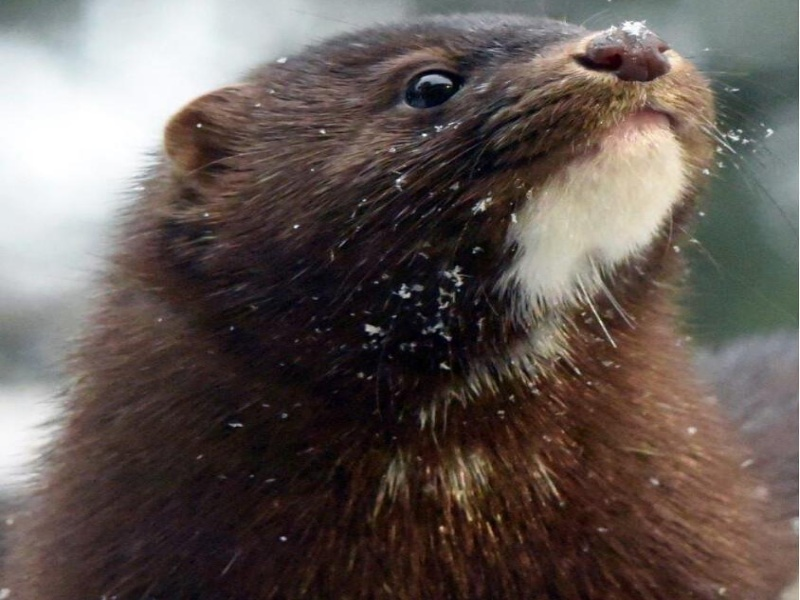minkish: (17, 9, 729, 600)
